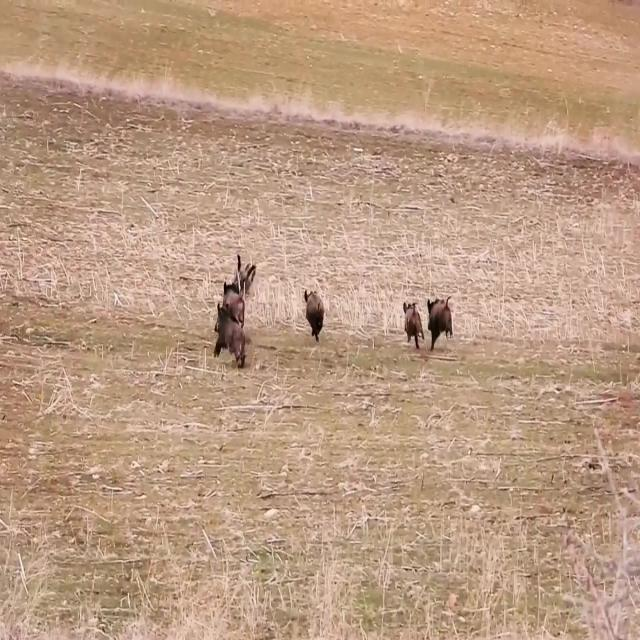pig: (206, 290, 258, 378), (291, 286, 339, 345), (423, 290, 458, 368), (396, 297, 429, 358)
